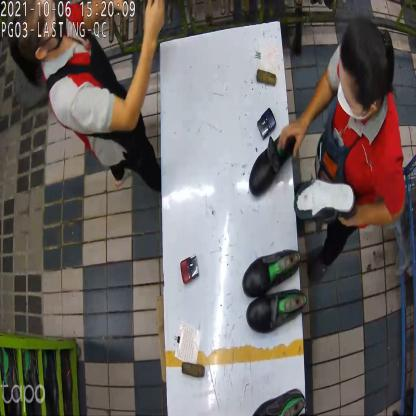shoes: (248, 125, 357, 228), (240, 247, 309, 337)
stamp: (257, 106, 276, 140), (180, 253, 199, 285)
